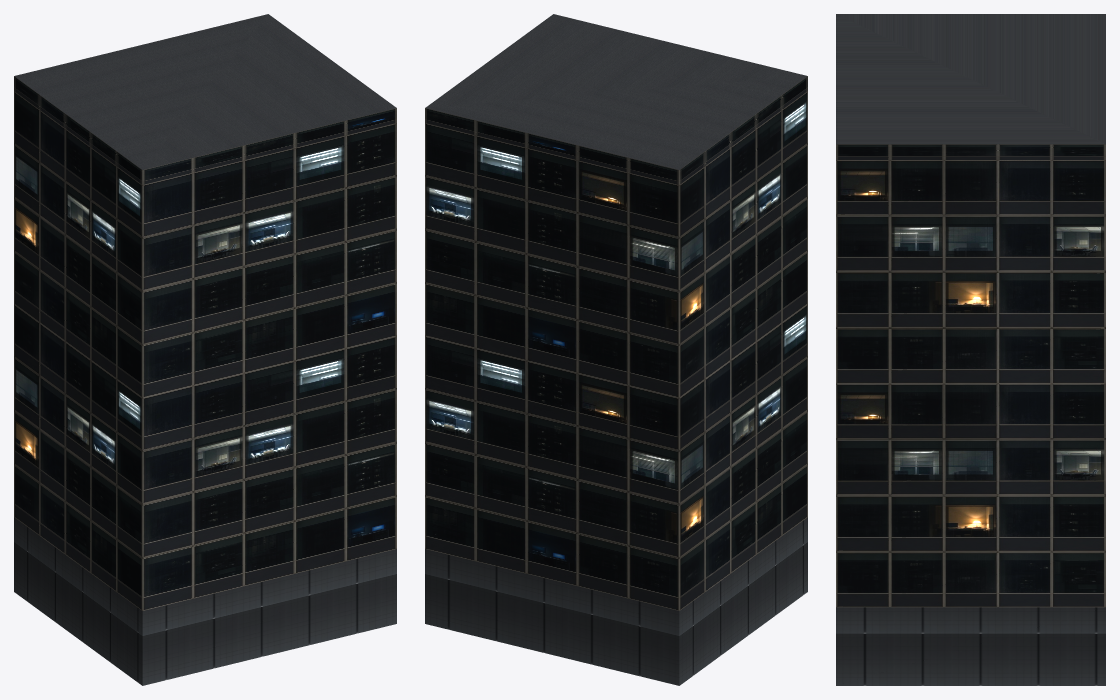
File: admin_block.glb
The picture shows the model from 3 angles, left to right: view 1: azimuth 30°, elevation 25°; view 2: azimuth 150°, elevation 25°; view 3: azimuth 270°, elevation 25°; orthographic projection. The views are drawn at different scales.
Parts seen in each view (by area): view 1: body, crown, ground; view 2: body, crown, ground; view 3: body, crown, ground.
Boxes of the visible parts, <box> form: body: <box>14,91,396,610</box>; crown: <box>14,14,396,184</box>; ground: <box>14,517,396,685</box>; body: <box>425,91,807,610</box>; crown: <box>425,14,807,184</box>; ground: <box>425,517,807,685</box>; body: <box>836,160,1105,607</box>; crown: <box>836,14,1105,160</box>; ground: <box>836,607,1105,685</box>.
Size of the model in its own units: 16 by 31 by 14.
3 materials, 3 textured.
